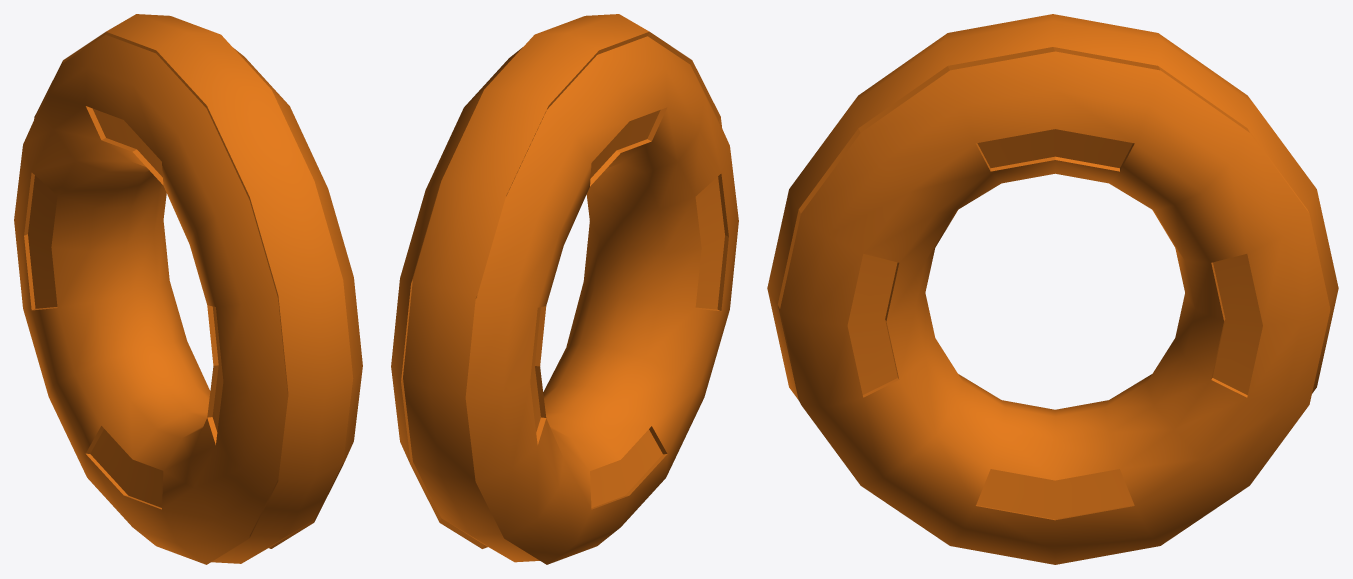
Rendered from PortalRamme.FBX.
The picture shows the model from 3 angles, left to right: view 1: azimuth 30°, elevation 25°; view 2: azimuth 150°, elevation 25°; view 3: azimuth 270°, elevation 25°; orthographic projection. The views are drawn at different scales.
Parts seen in each view (by area): view 1: Torus001; view 2: Torus001; view 3: Torus001.
Boxes of the visible parts, x1,y1,x2,y2 form: Torus001: [14, 14, 362, 564]; Torus001: [391, 14, 738, 564]; Torus001: [767, 14, 1338, 564].
Size of the model in its own units: 6 by 22 by 22.62.
